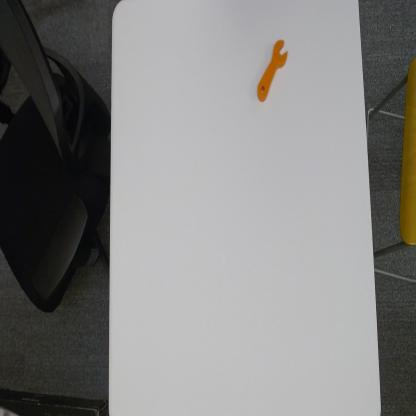Screwdriver: (256, 33, 290, 106)
